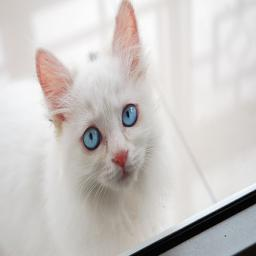catnose: (110, 148, 130, 169)
